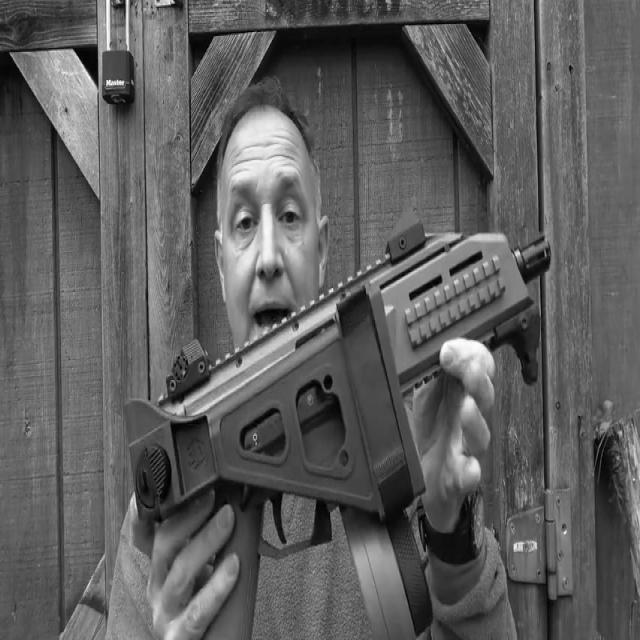Sub-machine-gun: (164, 222, 550, 518)
